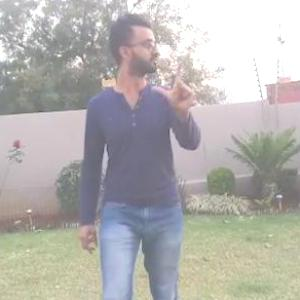land_hand: (145, 55, 199, 111)
